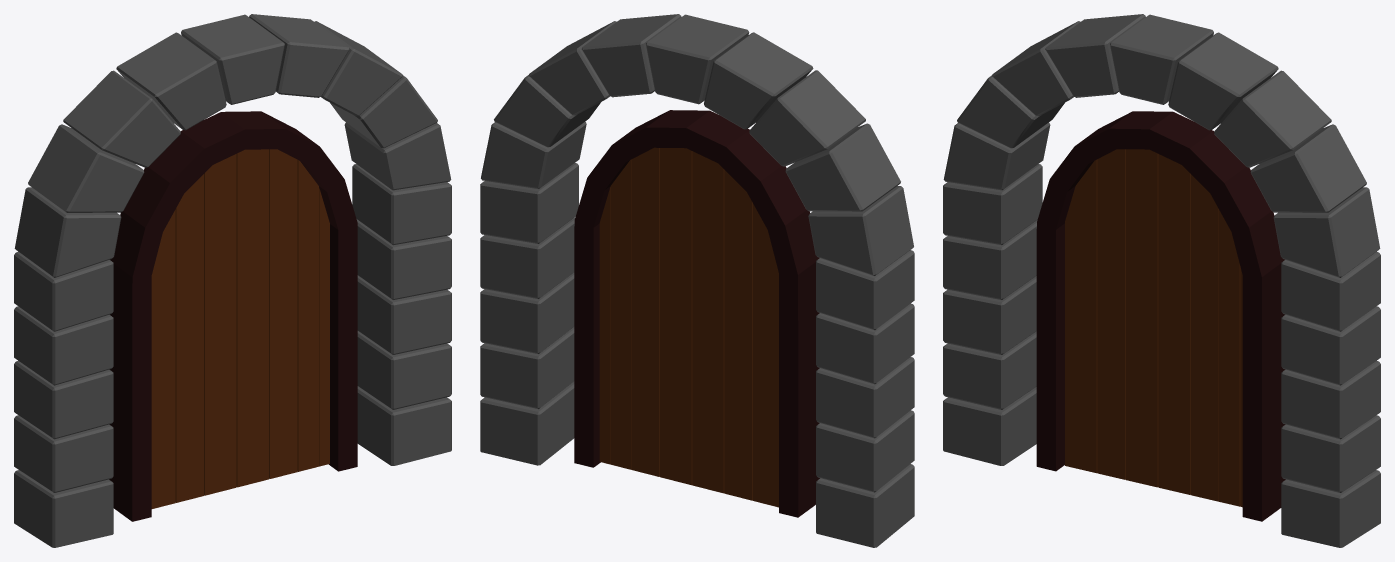
Rendered from door.fbx.
The picture shows the model from 3 angles, left to right: view 1: azimuth 30°, elevation 25°; view 2: azimuth 150°, elevation 25°; view 3: azimuth 330°, elevation 25°; orthographic projection.
Parts seen in each view (by area): view 1: Cylinder, Cylinder.001, Cylinder.002; view 2: Cylinder, Cylinder.001, Cylinder.002; view 3: Cylinder, Cylinder.001, Cylinder.002.
Boxes of the visible parts, left/top/right/bottom form: Cylinder: left=14, top=14, right=451, bottom=547; Cylinder.001: left=151, top=149, right=329, bottom=508; Cylinder.002: left=109, top=111, right=357, bottom=521; Cylinder: left=480, top=14, right=914, bottom=547; Cylinder.001: left=599, top=147, right=778, bottom=507; Cylinder.002: left=574, top=110, right=819, bottom=517; Cylinder: left=943, top=14, right=1380, bottom=547; Cylinder.001: left=1065, top=149, right=1242, bottom=507; Cylinder.002: left=1036, top=111, right=1285, bottom=521.
Bounding box in the file's own units: 412 × 446 × 73.27.
